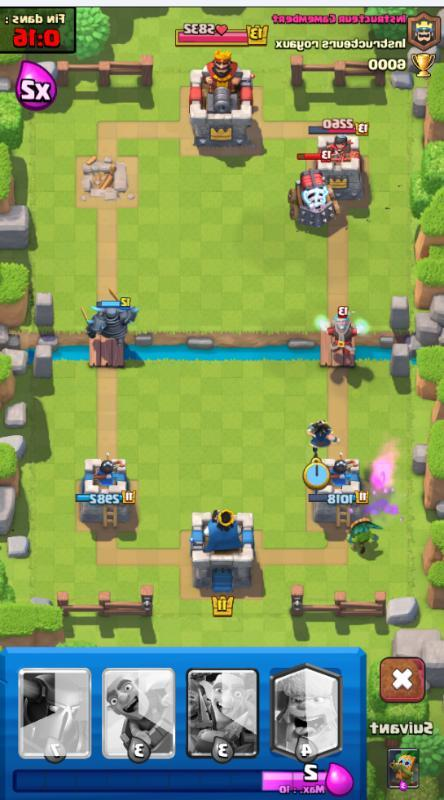enemy_ice_wizard: (313, 309, 369, 367)
enemy_sparky: (284, 168, 340, 230)
player_dart_goblin: (339, 499, 387, 563)
player_electro_wizard: (302, 415, 341, 461)
player_pekka: (76, 288, 147, 357)
